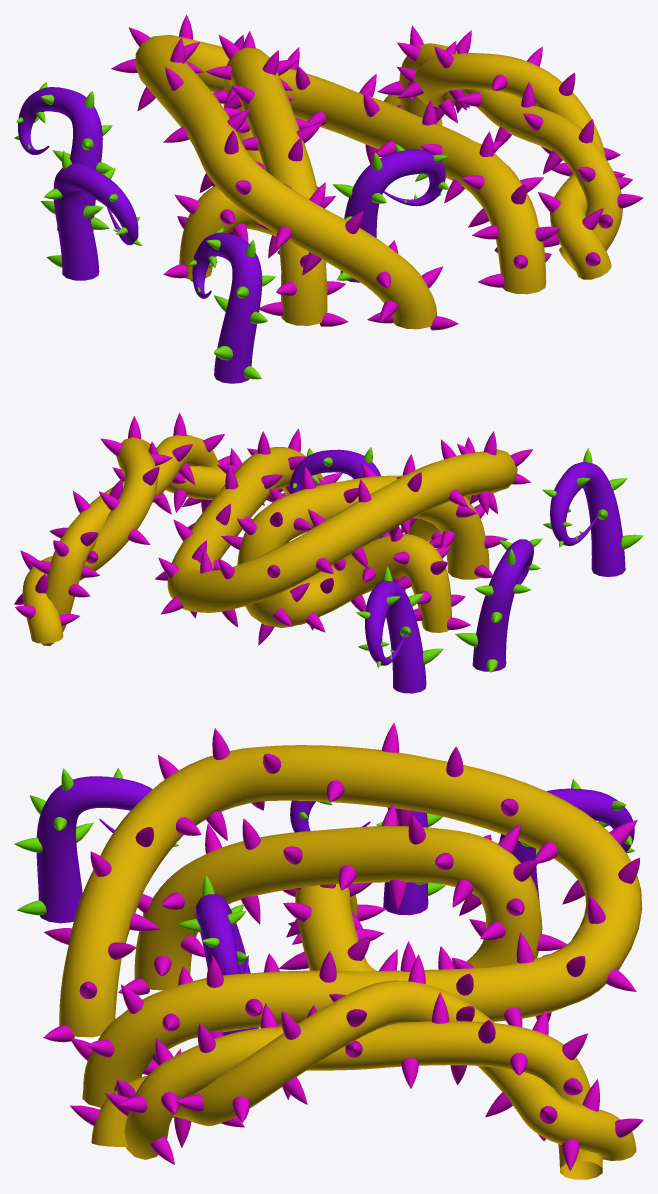
Rendered from brab.fbx.
3 renders of one model, top to bottom at view 1: azimuth 30°, elevation 25°; view 2: azimuth 150°, elevation 25°; view 3: azimuth 270°, elevation 25°, orthographic. The views are drawn at different scales.
Parts seen in each view (by area): view 1: Bramble1.001, Bramble1.005, Bramble1, Bramble1.002, Bramble1.003, Bramble1.006, Bramble1.004; view 2: Bramble1.001, Bramble1, Bramble1.005, Bramble1.002, Bramble1.004, Bramble1.003, Bramble1.006; view 3: Bramble1.001, Bramble1.005, Bramble1, Bramble1.002, Bramble1.006, Bramble1.004, Bramble1.003.
Boxes of the visible parts, x1,y1,x2,y2 form: Bramble1.001: [111, 14, 560, 330]; Bramble1.005: [377, 25, 643, 279]; Bramble1: [163, 31, 348, 326]; Bramble1.002: [189, 227, 275, 383]; Bramble1.003: [40, 150, 141, 280]; Bramble1.006: [332, 143, 449, 282]; Bramble1.004: [14, 82, 115, 230]; Bramble1.001: [155, 428, 533, 627]; Bramble1: [221, 454, 507, 645]; Bramble1.005: [14, 412, 264, 646]; Bramble1.002: [542, 448, 643, 576]; Bramble1.004: [356, 566, 443, 693]; Bramble1.003: [455, 538, 542, 672]; Bramble1.006: [289, 447, 381, 539]; Bramble1.001: [43, 722, 642, 1107]; Bramble1.005: [70, 954, 643, 1179]; Bramble1: [118, 803, 566, 995]; Bramble1.002: [14, 768, 178, 923]; Bramble1.006: [177, 875, 258, 1035]; Bramble1.004: [499, 779, 634, 902]; Bramble1.003: [290, 748, 445, 915].
Size of the model in its own units: 1316 by 528 by 1149.
